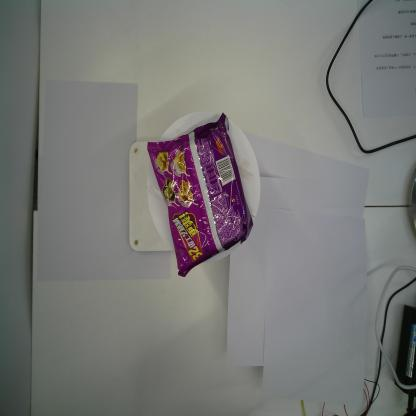Instant Noodles: (147, 111, 254, 278)
